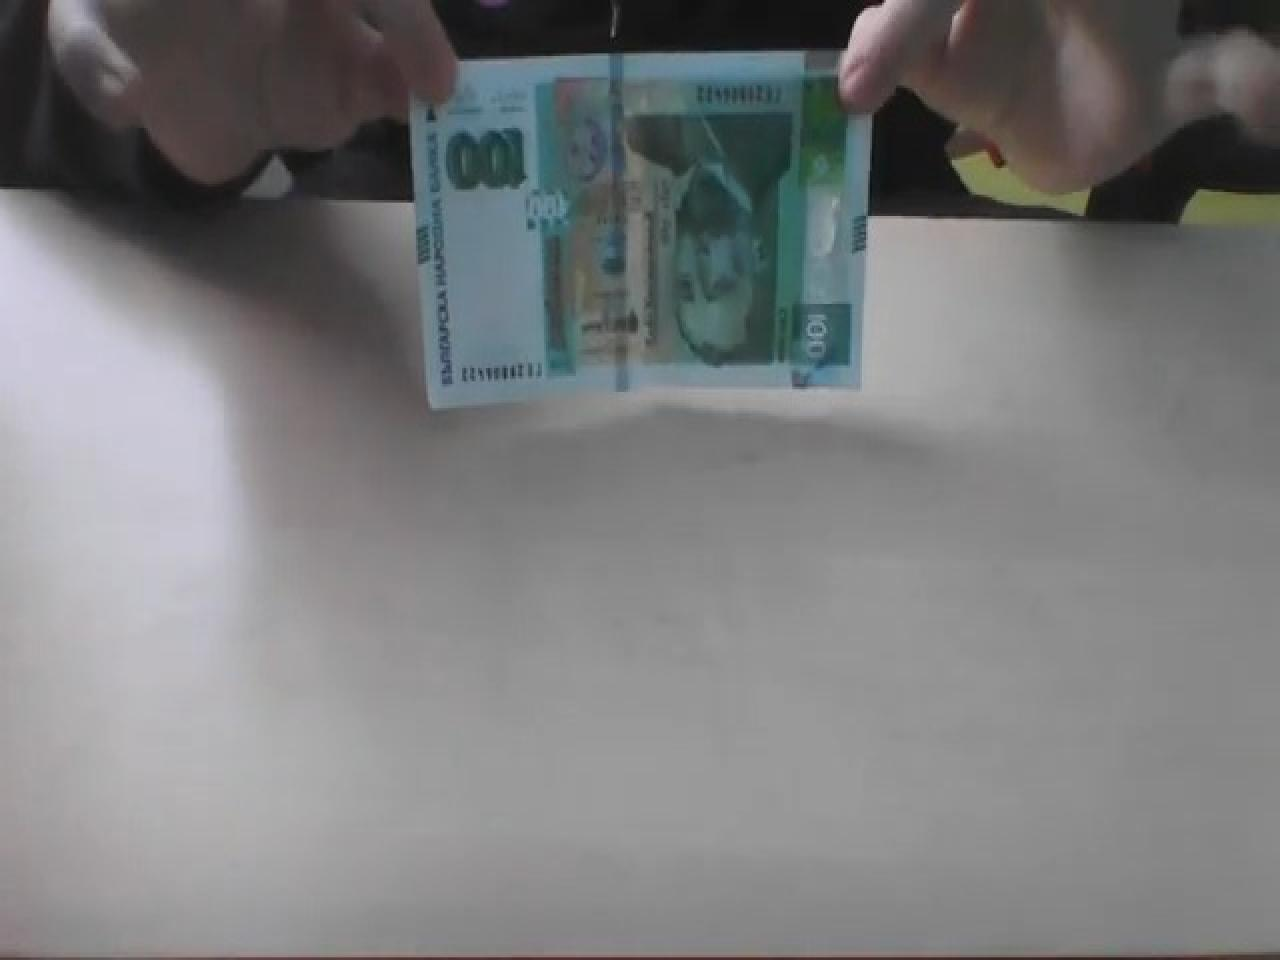100leva: (408, 45, 874, 410)
